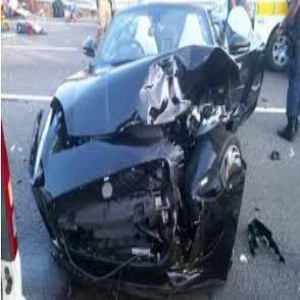bonnet: (102, 41, 243, 128)
